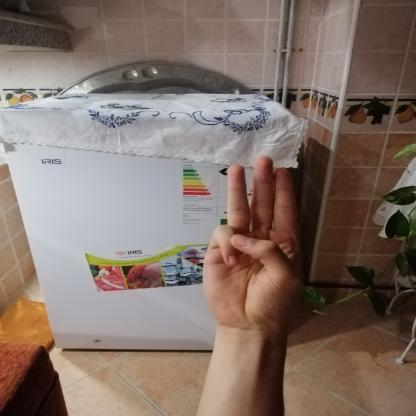THA: (187, 144, 321, 343)
